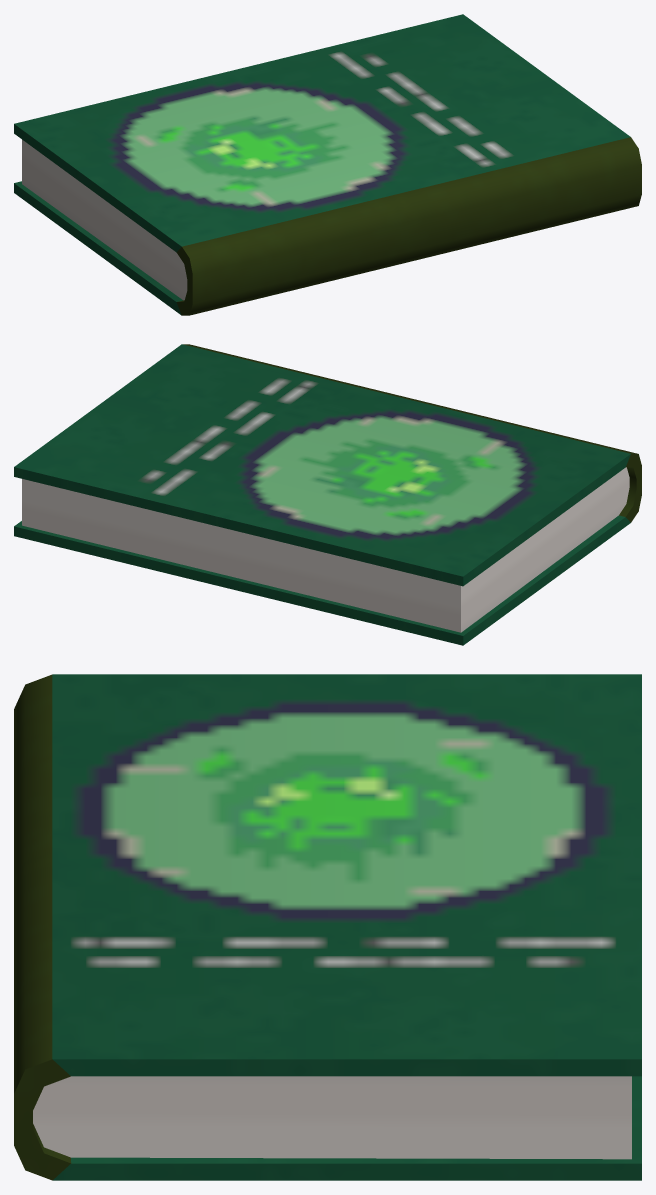
Rendered from BookAboutPoison.fbx.
The picture shows the model from 3 angles, top to bottom: view 1: azimuth 30°, elevation 25°; view 2: azimuth 150°, elevation 25°; view 3: azimuth 270°, elevation 25°; orthographic projection. The views are drawn at different scales.
Parts seen in each view (by area): view 1: BookAboutPoison; view 2: BookAboutPoison; view 3: BookAboutPoison.
Boxes of the visible parts, x1,y1,x2,y2 form: BookAboutPoison: (14, 14, 641, 315); BookAboutPoison: (14, 344, 641, 645); BookAboutPoison: (14, 674, 641, 1180).
Size of the model in its own units: 89.16 by 13.1 by 61.48.
Materials: 1 (1 with a texture image).
